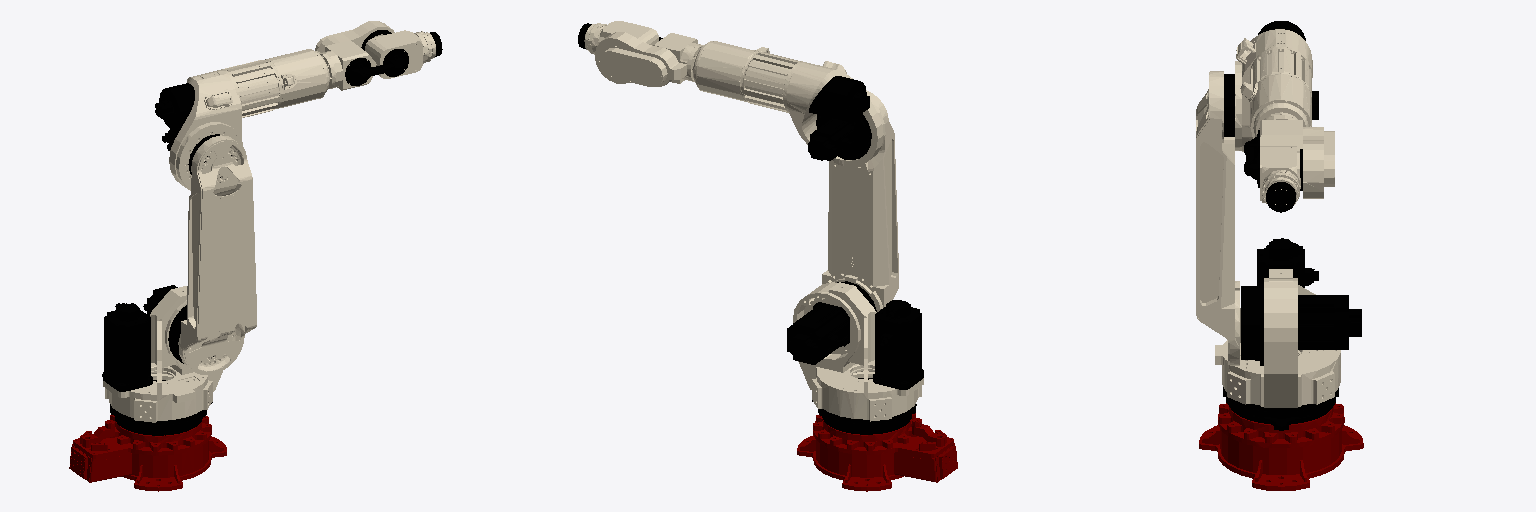
The robot description file, URDF, robot "SR80":
<?xml version="1.0"?>
<!-- created with Phobos 1.0.1 "Capricious Choutengan" -->
  <robot name="SR80">

    <link name="L1">
      <visual name="Link1_1">
        <origin xyz="0 0 0" rpy="0 0 0"/>
        <geometry>
          <mesh filename="meshes/dae/Link1_1.dae" scale="1.0 1.0 1.0"/>
        </geometry>
        <material name="black"/>
      </visual>
      <visual name="Link1_2">
        <origin xyz="0 0 0" rpy="0 0 0"/>
        <geometry>
          <mesh filename="meshes/dae/Link1_2.dae" scale="1.0 1.0 1.0"/>
        </geometry>
        <material name="white"/>
      </visual>
      <collision name="Link1_1">
        <origin xyz="0.04186 0.04316 -0.12385" rpy="0 0 0"/>
        <geometry>
          <box size="0.58774 0.52632 0.5948"/>
        </geometry>
      </collision>
      <collision name="Link1_2">
        <origin xyz="0.0465 -0.01253 -0.07119" rpy="0 0 0"/>
        <geometry>
          <box size="0.59701 0.47495 0.51213"/>
        </geometry>
      </collision>
    </link>

    <link name="L2">
      <visual name="Link2_1">
        <origin xyz="0 0 0" rpy="-1.5708 0 -1.5708"/>
        <geometry>
          <mesh filename="meshes/dae/Link2_1.dae" scale="1.0 1.0 1.0"/>
        </geometry>
        <material name="white"/>
      </visual>
      <visual name="Link2_2">
        <origin xyz="0 0 0" rpy="-1.5708 0 -1.5708"/>
        <geometry>
          <mesh filename="meshes/dae/Link2_2.dae" scale="1.0 1.0 1.0"/>
        </geometry>
        <material name="black"/>
      </visual>
      <collision name="Link2_1">
        <origin xyz="0.43725 0 0.23727" rpy="-1.5708 0 -1.5708"/>
        <geometry>
          <box size="0.32499 0.16505 1.1995"/>
        </geometry>
      </collision>
      <collision name="Link2_2">
        <origin xyz="0.905 0.00031 0.03705" rpy="-1.5708 0 -1.5708"/>
        <geometry>
          <box size="0.28739 0.3599 0.288"/>
        </geometry>
      </collision>
    </link>

    <link name="L3">
      <visual name="Link3_1">
        <origin xyz="0 0 0" rpy="-1.5708 0 -1.5708"/>
        <geometry>
          <mesh filename="meshes/dae/Link3_1.dae" scale="1.0 1.0 1.0"/>
        </geometry>
        <material name="white"/>
      </visual>
      <visual name="Link3_2">
        <origin xyz="0 0 0" rpy="-1.5708 0 -1.5708"/>
        <geometry>
          <mesh filename="meshes/dae/Link3_2.dae" scale="1.0 1.0 1.0"/>
        </geometry>
        <material name="black"/>
      </visual>
      <collision name="Link3_1">
        <origin xyz="0.07425 -0.24338 0.02774" rpy="-1.5708 0 -1.5708"/>
        <geometry>
          <box size="0.83872 0.29353 0.5005"/>
        </geometry>
      </collision>
      <collision name="Link3_2">
        <origin xyz="0.206 0.02281 0" rpy="-1.5708 0 -1.5708"/>
        <geometry>
          <box size="0.301 0.19 0.19"/>
        </geometry>
      </collision>
    </link>

    <link name="L4">
      <visual name="Link4_1">
        <origin xyz="0 0 0" rpy="3.14159 -1.5708 0"/>
        <geometry>
          <mesh filename="meshes/dae/Link4_1.dae" scale="1.0 1.0 1.0"/>
        </geometry>
        <material name="white"/>
      </visual>
      <visual name="Link4_2">
        <origin xyz="0 0 0" rpy="3.14159 -1.5708 0"/>
        <geometry>
          <mesh filename="meshes/dae/Link4_2.dae" scale="1.0 1.0 1.0"/>
        </geometry>
        <material name="black"/>
      </visual>
      <collision name="Link4_1">
        <origin xyz="0 -0.05552 0.688" rpy="3.14159 -1.5708 0"/>
        <geometry>
          <box size="0.88401 0.29316 0.21988"/>
        </geometry>
      </collision>
      <collision name="Link4_2">
        <origin xyz="0 0.00411 0.93202" rpy="3.14159 -1.5708 0"/>
        <geometry>
          <box size="0.36419 0.27337 0.19"/>
        </geometry>
      </collision>
    </link>

    <link name="L5">
      <visual name="Link5">
        <origin xyz="0 0 0" rpy="-1.5708 0 -1.5708"/>
        <geometry>
          <mesh filename="meshes/dae/Link5.dae" scale="1.0 1.0 1.0"/>
        </geometry>
        <material name="white"/>
      </visual>
      <collision name="Link5">
        <origin xyz="0 -0.07093 0.00343" rpy="-1.5708 0 -1.5708"/>
        <geometry>
          <box size="0.30715 0.15674 0.15001"/>
        </geometry>
      </collision>
    </link>

    <link name="base_link">
      <visual name="Base">
        <origin xyz="0 0 0" rpy="0 0 0"/>
        <geometry>
          <mesh filename="meshes/dae/Base.dae" scale="1.0 1.0 1.0"/>
        </geometry>
        <material name="red"/>
      </visual>
      <collision name="Base">
        <origin xyz="-0.04926 0 0.12718" rpy="0 0 0"/>
        <geometry>
          <box size="0.75852 0.62187 0.25435"/>
        </geometry>
      </collision>
    </link>

    <link name="flange">
      <visual name="Flange">
        <origin xyz="0 0 0" rpy="3.14159 0 0"/>
        <geometry>
          <mesh filename="meshes/dae/Flange.dae" scale="1.0 1.0 1.0"/>
        </geometry>
        <material name="black"/>
      </visual>
      <collision name="Flange">
        <origin xyz="0 0 -0.01015" rpy="3.14159 0 0"/>
        <geometry>
          <box size="0.115 0.11383 0.0307"/>
        </geometry>
      </collision>
    </link>

    <!-- ROS-Industrial 'base' frame: base_link to robot world coordinate sytem transform -->
    <link name="base0" />
    <joint name="base_link-base" type="fixed">
        <origin rpy="0 0 0" xyz="0 0 0" />
        <parent link="base_link" />
        <child link="base0" />
    </joint>
    <!-- ROS-Industrial 'tool0' frame: all-zeros tool frame -->
    <link name="tool0" />
    <joint name="flange-tool0" type="fixed">
        <origin rpy="0 0 0" xyz="0 0 0" />
        <parent link="flange" />
        <child link="tool0" />
    </joint>

    <link name="world" />
    <joint name="world-base_link-fixed" type="fixed">
        <parent link="world" />
        <child link="base_link" />
    </joint>
    <!-- TCP -->
    <joint name="fixed_joint_tcp" type="fixed">
        <origin rpy="0 0 0" xyz="0 0 0" />
        <!-- tcp offset from last link -->
        <parent link="flange" />
        <child link="tcp" />
    </joint>
    <link name="tcp" />

    <joint name="J1" type="revolute">
      <origin xyz="0 0 0.63" rpy="0 0 0"/>
      <parent link="base_link"/>
      <child link="L1"/>
      <axis xyz="0 0 1.0"/>
      <limit lower="-3.14159" upper="3.14159" effort="2.76" velocity="3.39"/>
    </joint>

    <joint name="J2" type="revolute">
      <origin xyz="0.175 0 0" rpy="1.5708 -1.5708 0"/>
      <parent link="L1"/>
      <child link="L2"/>
      <axis xyz="0 0 1.0"/>
      <limit lower="-2.268928028" upper="1.047197551" effort="2.76" velocity="3.39"/>
    </joint>

    <joint name="J3" type="revolute">
      <origin xyz="0.905 0 0" rpy="0 0 0"/>
      <parent link="L2"/>
      <child link="L3"/>
      <axis xyz="0 0 1.0"/>
      <limit lower="-1.396263402" upper="2.879793266" effort="2.76" velocity="3.39"/>
    </joint>

    <joint name="J4" type="revolute">
      <origin xyz="0.206 0 0" rpy="1.5708 0 0"/>
      <parent link="L3"/>
      <child link="L4"/>
      <axis xyz="0 0 1.0"/>
      <limit lower="-3.14159" upper="3.14159" effort="2.76" velocity="3.39"/>
    </joint>

    <joint name="J5" type="revolute">
      <origin xyz="0 0 1.02" rpy="-1.5708 0 0"/>
      <parent link="L4"/>
      <child link="L5"/>
      <axis xyz="0 0 1.0"/>
      <limit lower="-2.181661565" upper="2.181661565" effort="2.76" velocity="3.39"/>
    </joint>

    <joint name="J6" type="revolute">
      <origin xyz="0 -0.25 0" rpy="1.5708 0 0"/>
      <parent link="L5"/>
      <child link="flange"/>
      <axis xyz="0 0 1.0"/>
      <limit lower="-6.108652382" upper="6.108652382" effort="2.76" velocity="3.39"/>
    </joint>

    <material name="black">
      <color rgba="0.007 0.007 0.007 1.0"/>
    </material>

    <material name="red">
      <color rgba="0.49693 0.01298 0.00518 1.0"/>
    </material>

    <material name="white">
      <color rgba="0.87962 0.8388 0.75294 1.0"/>
    </material>

  </robot>

--- Render facts (derived) ---
3 views of the same robot in one strip: view 1: azimuth 30°, elevation 25°; view 2: azimuth 150°, elevation 25°; view 3: azimuth 270°, elevation 25° (orthographic).
Robot: SR80 — 11 links, 10 joints (6 revolute, 4 fixed); root link world; default pose: all joints at 0.
Visible links, largest first — view 1: L2, L1, L3, base_link, L4, L5; view 2: L1, L2, L3, base_link, L4, L5; view 3: L1, L2, base_link, L3, L4, L5, flange.
Boxes of the visible links, x1,y1,x2,y2 form: L2: [162, 128, 256, 374]; L1: [102, 285, 222, 435]; L3: [155, 49, 329, 190]; base_link: [69, 415, 226, 491]; L4: [280, 21, 408, 90]; L5: [365, 30, 435, 78]; L1: [787, 281, 923, 434]; L2: [808, 90, 898, 311]; L3: [693, 41, 885, 166]; base_link: [797, 413, 957, 491]; L4: [595, 32, 703, 86]; L5: [584, 21, 658, 54]; L1: [1215, 238, 1361, 430]; L2: [1196, 71, 1318, 365]; base_link: [1199, 403, 1363, 490]; L3: [1235, 21, 1312, 151]; L4: [1244, 112, 1334, 198]; L5: [1260, 146, 1300, 204]; flange: [1266, 182, 1295, 212].
Bounding box of the posed robot: 1.88 × 0.6307 × 1.86 m (x, y, z).
11 mesh visuals loaded from 11 distinct referenced files (11 Collada DAE).